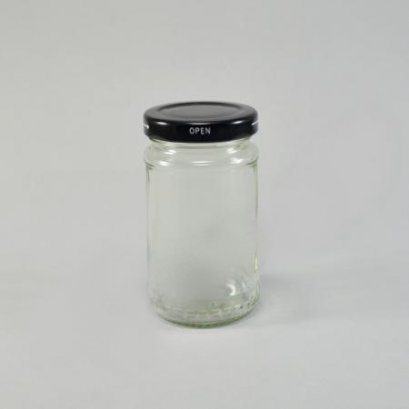glass_bottle: (137, 92, 266, 328)
